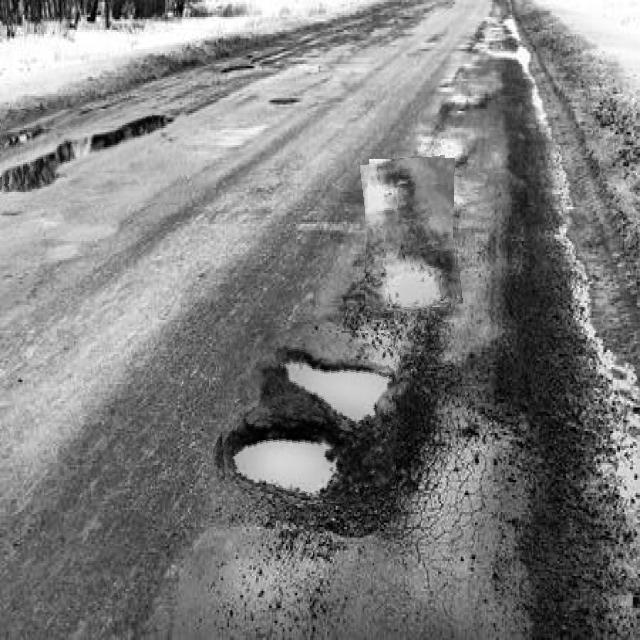Pothole: (214, 330, 396, 505), (2, 110, 188, 204), (365, 157, 459, 312)
